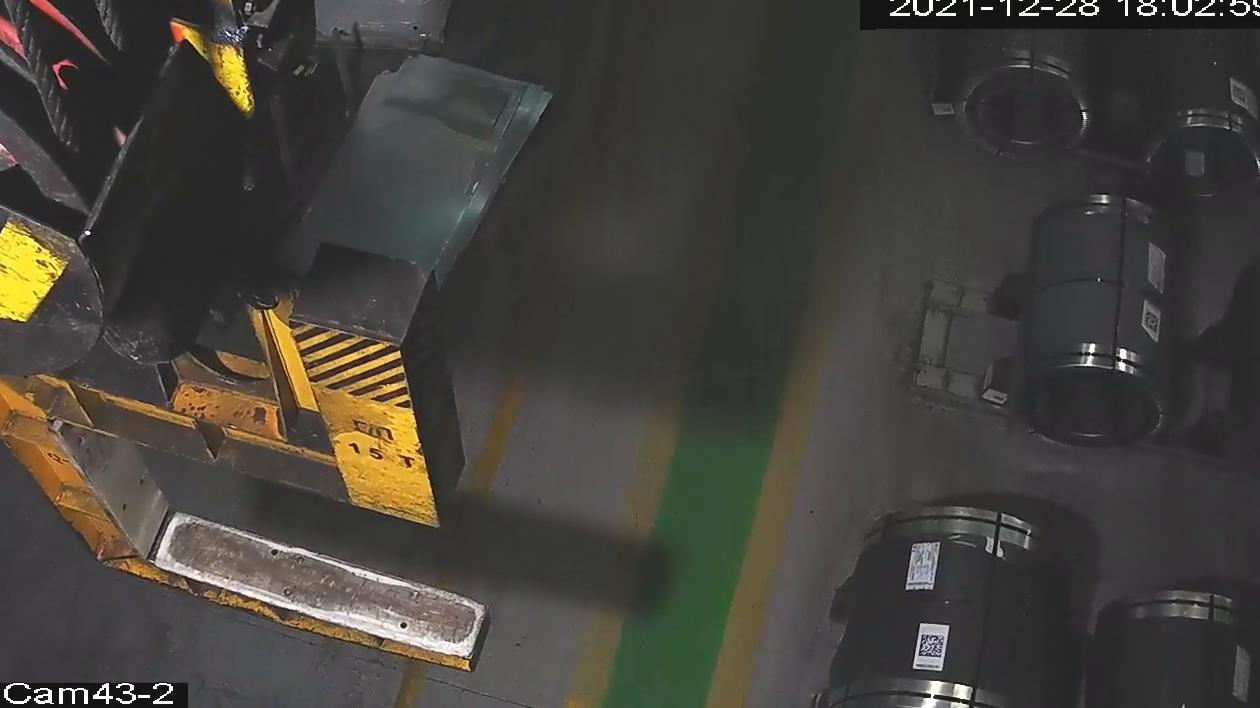data matrix: (917, 633, 948, 661), (1143, 309, 1161, 337), (1232, 83, 1249, 105)
